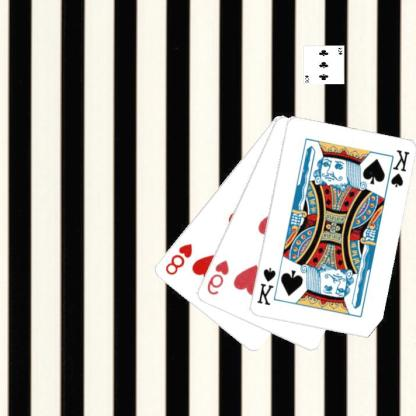6H: (206, 258, 232, 296)
8H: (164, 241, 195, 277)
KS: (384, 147, 412, 191), (255, 264, 279, 306)
